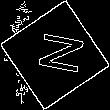N_W: (26, 31, 84, 79)
